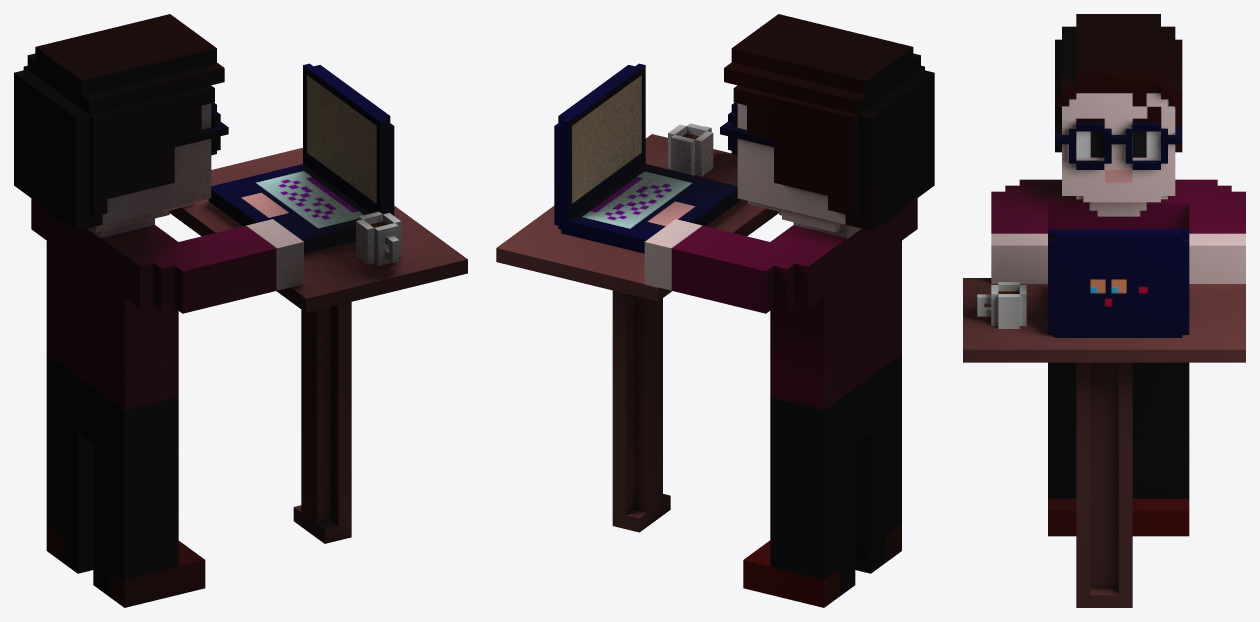
The model's file is misael.glb.
The picture shows the model from 3 angles, left to right: view 1: azimuth 30°, elevation 25°; view 2: azimuth 150°, elevation 25°; view 3: azimuth 270°, elevation 25°; orthographic projection. The views are drawn at different scales.
Parts seen in each view (by area): view 1: misael_character.001; view 2: misael_character.001; view 3: misael_character.001.
Boxes of the visible parts, x1,y1,x2,y2 form: misael_character.001: [14, 14, 467, 607]; misael_character.001: [496, 14, 934, 607]; misael_character.001: [963, 14, 1245, 607].
Size of the model in its own units: 5 by 7.4 by 4.
1 material, 1 textured.
